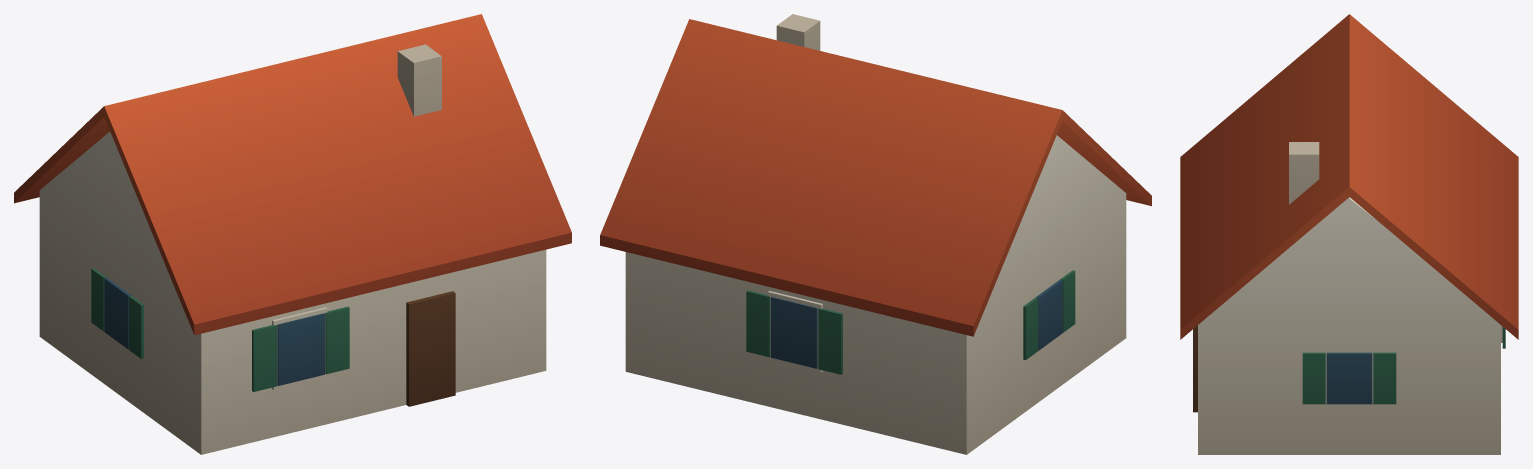
The model's file is Maisonnette.fbx.
3 renders of one model, left to right at view 1: azimuth 30°, elevation 25°; view 2: azimuth 150°, elevation 25°; view 3: azimuth 270°, elevation 25°, orthographic. The views are drawn at different scales.
Visible parts, largest first — view 1: Maisonnette_LOD0; view 2: Maisonnette_LOD0; view 3: Maisonnette_LOD0.
Boxes of the visible parts, left/top/right/bottom form: Maisonnette_LOD0: left=14, top=14, right=571, bottom=454; Maisonnette_LOD0: left=600, top=14, right=1151, bottom=454; Maisonnette_LOD0: left=1180, top=14, right=1518, bottom=454.
Bounding box in the file's own units: 1.16 × 0.86 × 0.9571.
1 material, 1 textured.
